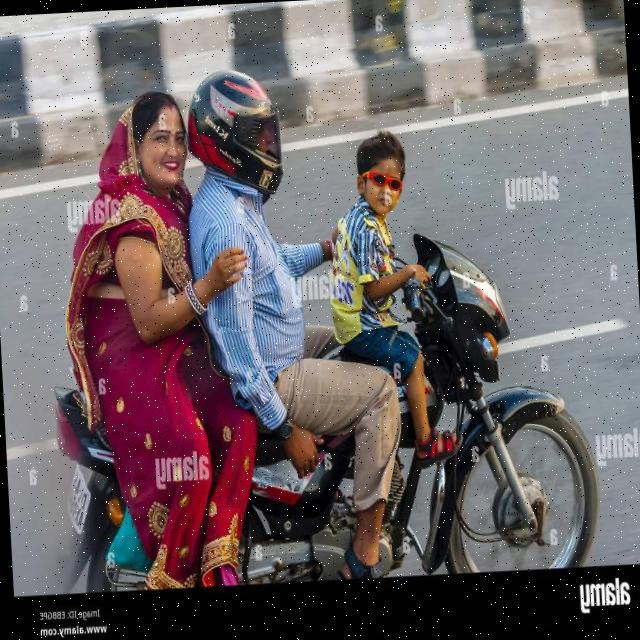Triple riding: (58, 46, 436, 501)
